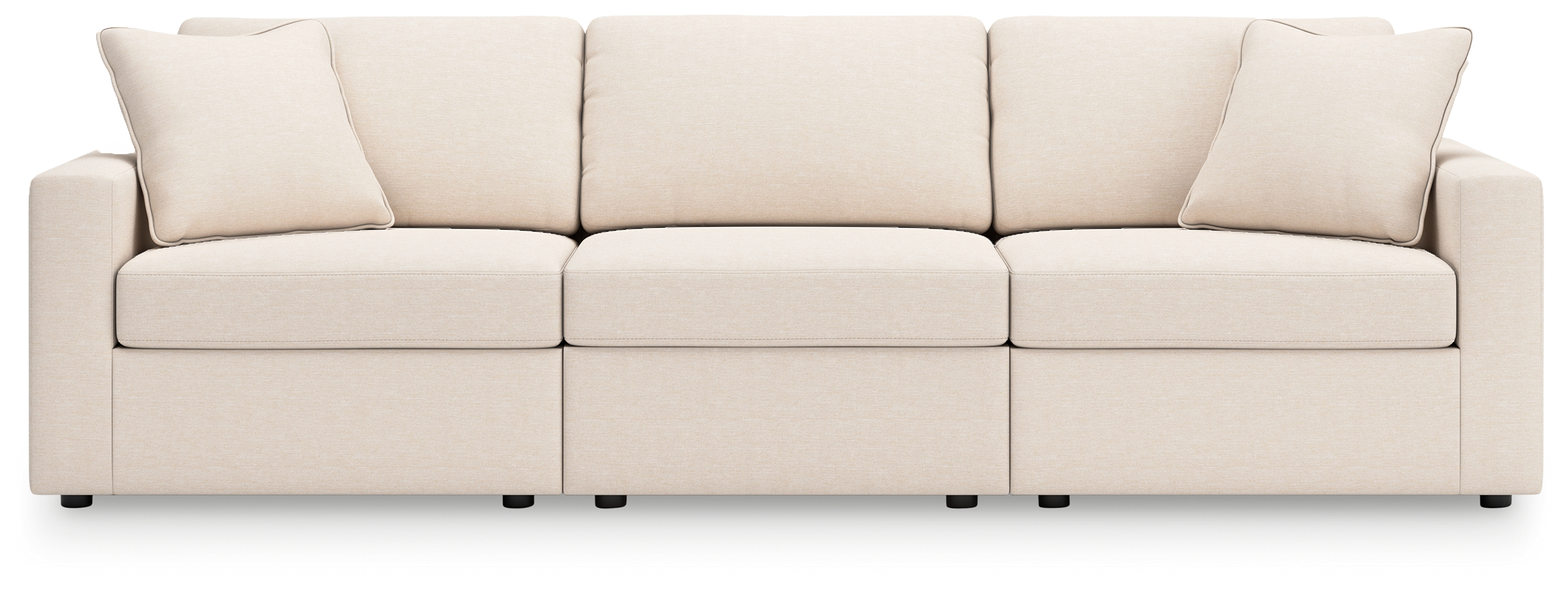3seatersofa: (30, 16, 1543, 507)
backrest: (324, 16, 1247, 234), (179, 17, 300, 35), (1274, 17, 1393, 35)
base: (89, 347, 1485, 495)
leftarmrest: (1428, 140, 1542, 493)
leg: (502, 495, 534, 508), (595, 495, 627, 508), (60, 495, 93, 507), (946, 496, 978, 508), (1038, 496, 1070, 507), (1480, 496, 1511, 507)
pillow: (100, 20, 394, 245), (1178, 21, 1472, 244)
rightarmrest: (29, 152, 149, 493)
seat: (116, 228, 1456, 348)
